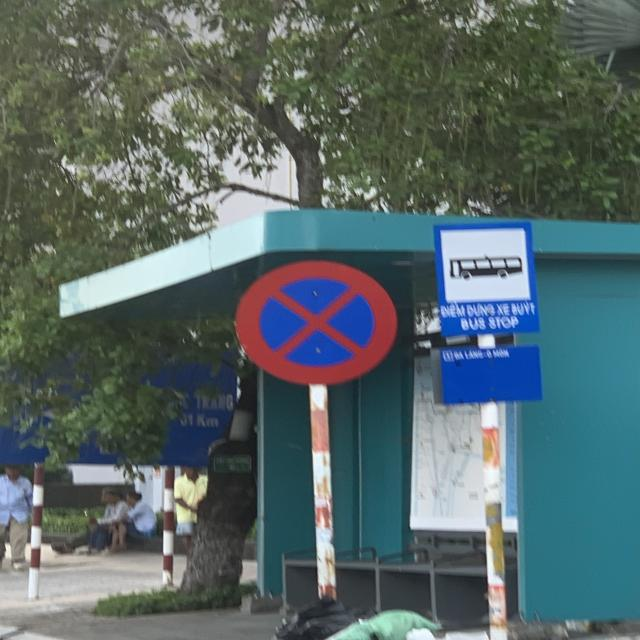Cam_Dung_Va_Dau_Xe: (235, 260, 399, 382)
